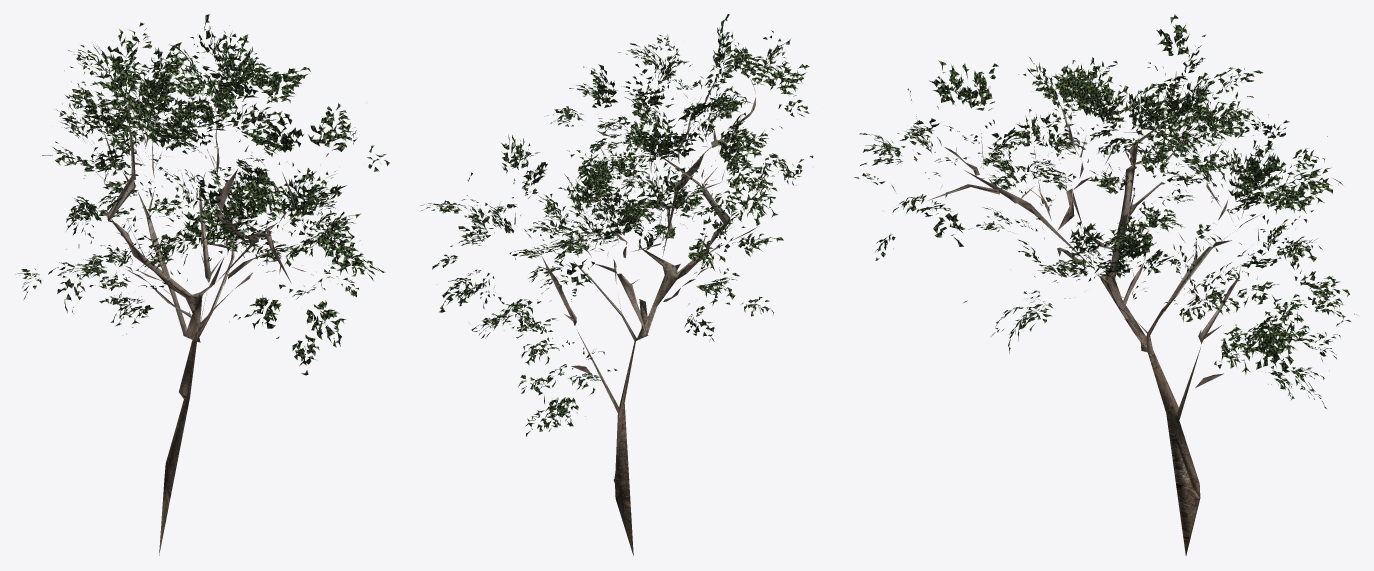
The model's file is tree_small_02_lod.glb.
3 views of the same model, side by side, from view 1: azimuth 30°, elevation 25°; view 2: azimuth 150°, elevation 25°; view 3: azimuth 270°, elevation 25° (orthographic). The views are drawn at different scales.
Parts seen in each view (by area): view 1: tree_small_02_LOD0; view 2: tree_small_02_LOD0; view 3: tree_small_02_LOD0.
Boxes of the visible parts, bbox=[...] form: tree_small_02_LOD0: bbox=[15, 14, 389, 555]; tree_small_02_LOD0: bbox=[420, 14, 813, 555]; tree_small_02_LOD0: bbox=[853, 14, 1358, 555].
Bounding box in the file's own units: 2.87 × 4.53 × 4.14.
Materials: 3 (3 with a texture image).
